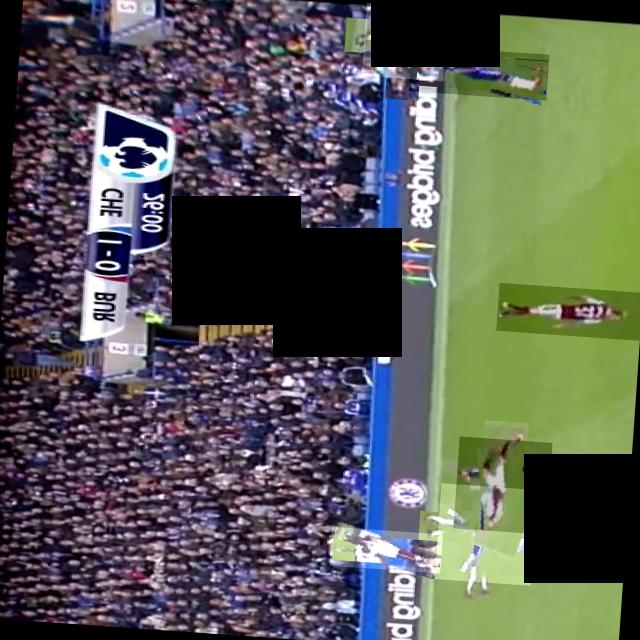referee: (360, 3, 446, 80)
soccer-player: (434, 483, 536, 585), (452, 436, 551, 534), (494, 282, 640, 340), (407, 44, 548, 100), (328, 526, 441, 573), (588, 457, 631, 505)
